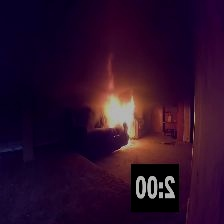fire: (98, 84, 145, 146)
